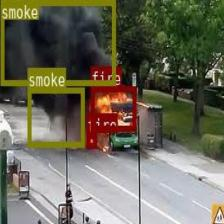fire: (90, 86, 136, 131), (86, 132, 96, 147)
smoke: (0, 0, 115, 84), (27, 87, 84, 146)
